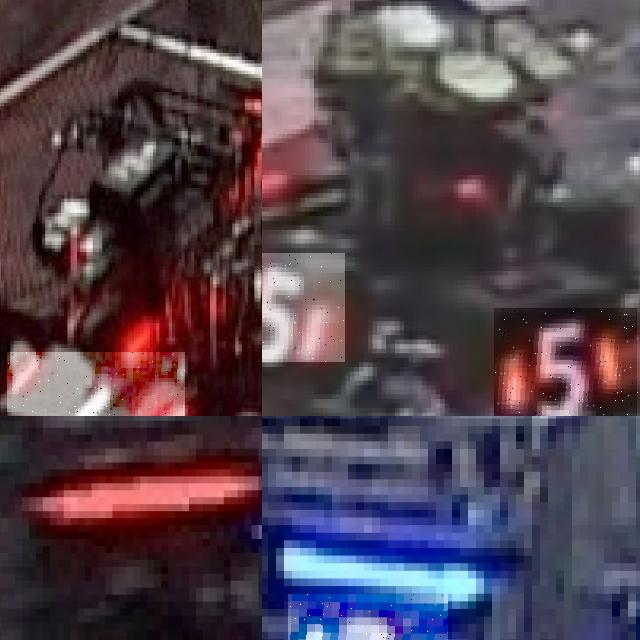B2: (288, 593, 448, 640)
R1: (7, 351, 184, 416)
R5: (494, 307, 638, 416), (262, 252, 345, 362)
